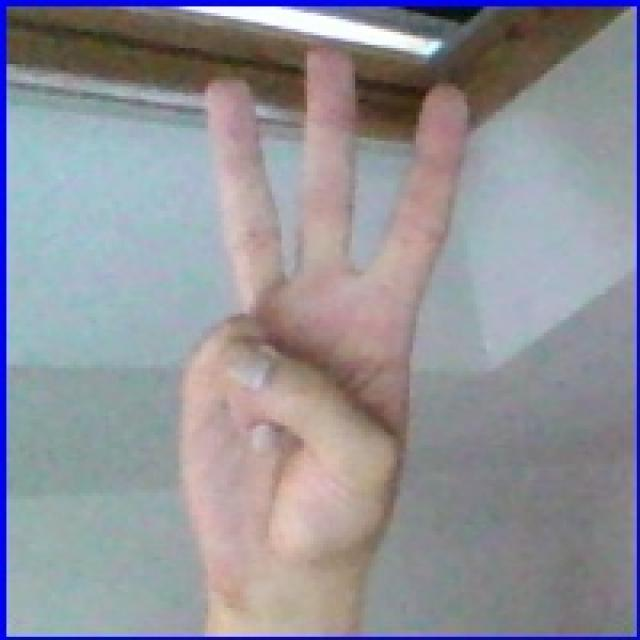Letra-W: (133, 32, 512, 603)
